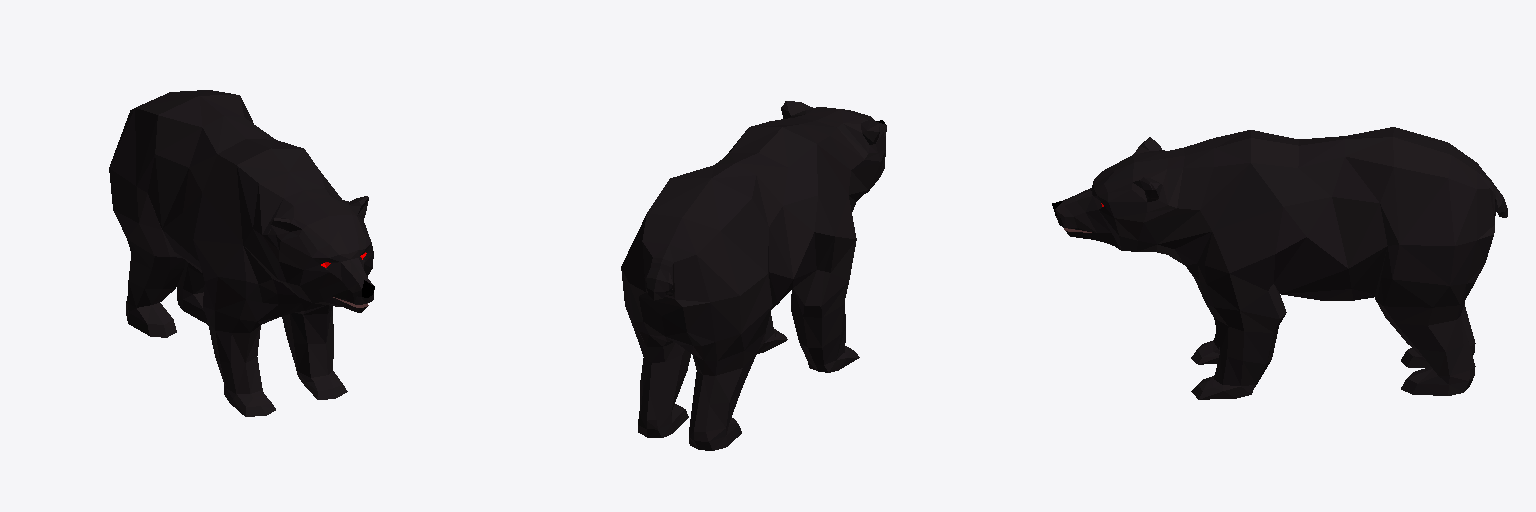
File: bearBlack_colorMap.obj
3 views of the same model, side by side, from view 1: azimuth 30°, elevation 25°; view 2: azimuth 150°, elevation 25°; view 3: azimuth 270°, elevation 25° (orthographic).
Bounding box in the file's own units: 81.4 × 142 × 247.